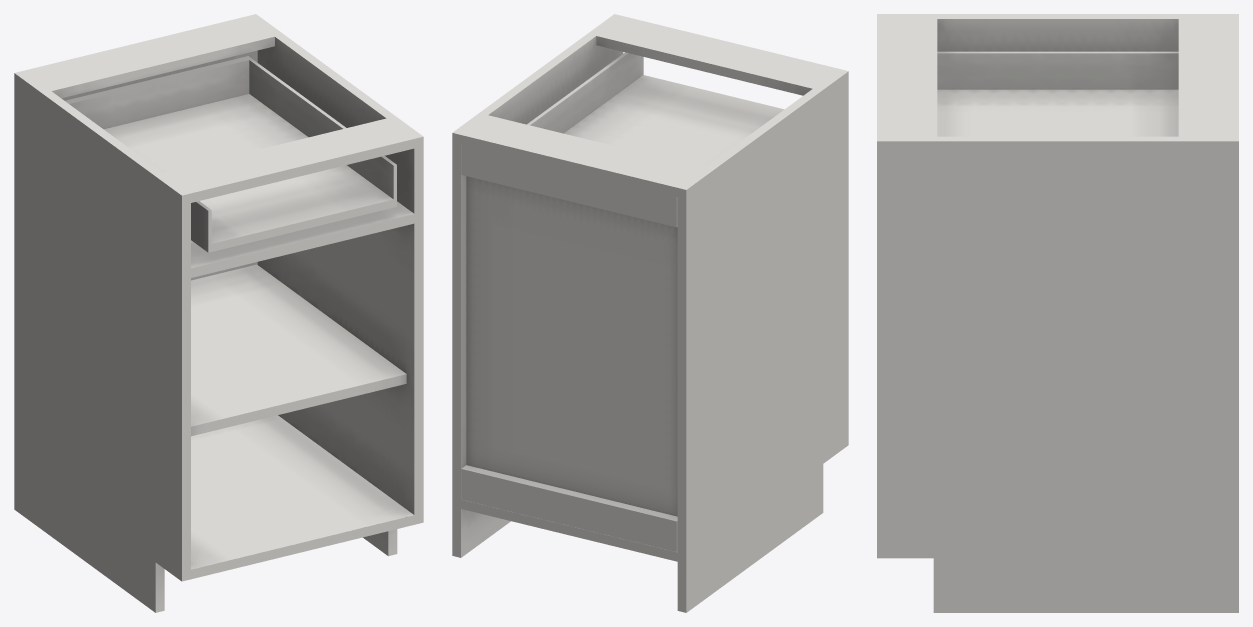
File: 1-door-1-drawer-base-doors-off.glb
3 renders of one model, left to right at view 1: azimuth 30°, elevation 25°; view 2: azimuth 150°, elevation 25°; view 3: azimuth 270°, elevation 25°, orthographic. The views are drawn at different scales.
Visible parts, largest first — view 1: part_0, part_12; view 2: part_0, part_12; view 3: part_0, part_12.
Boxes of the visible parts, bbox=[...] form: part_0: bbox=[14, 14, 423, 612]; part_12: bbox=[65, 56, 396, 252]; part_0: bbox=[452, 14, 848, 612]; part_12: bbox=[527, 52, 784, 167]; part_0: bbox=[877, 14, 1238, 612]; part_12: bbox=[937, 51, 1178, 136].
Bounding box in the file's own units: 0.508 × 0.8763 × 0.6096.
Materials: 2 (1 with a texture image).
